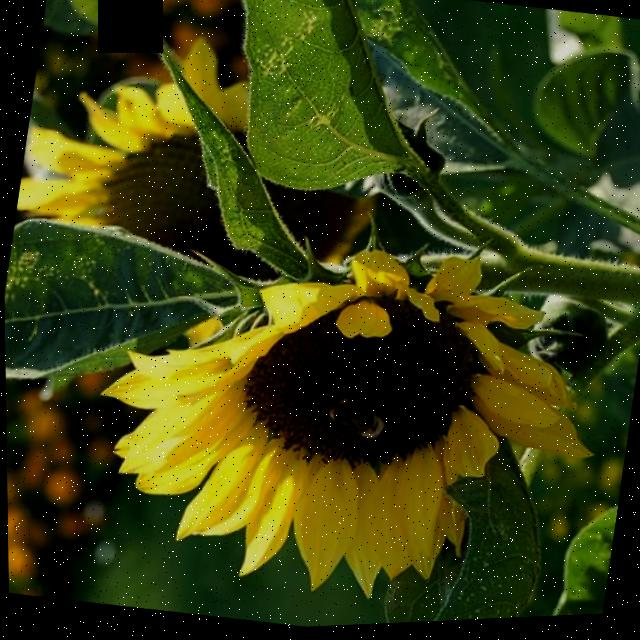sunflower: (2, 181, 640, 640)
